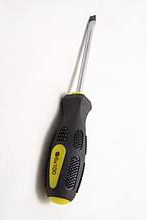screwdriver: (44, 13, 97, 206)
